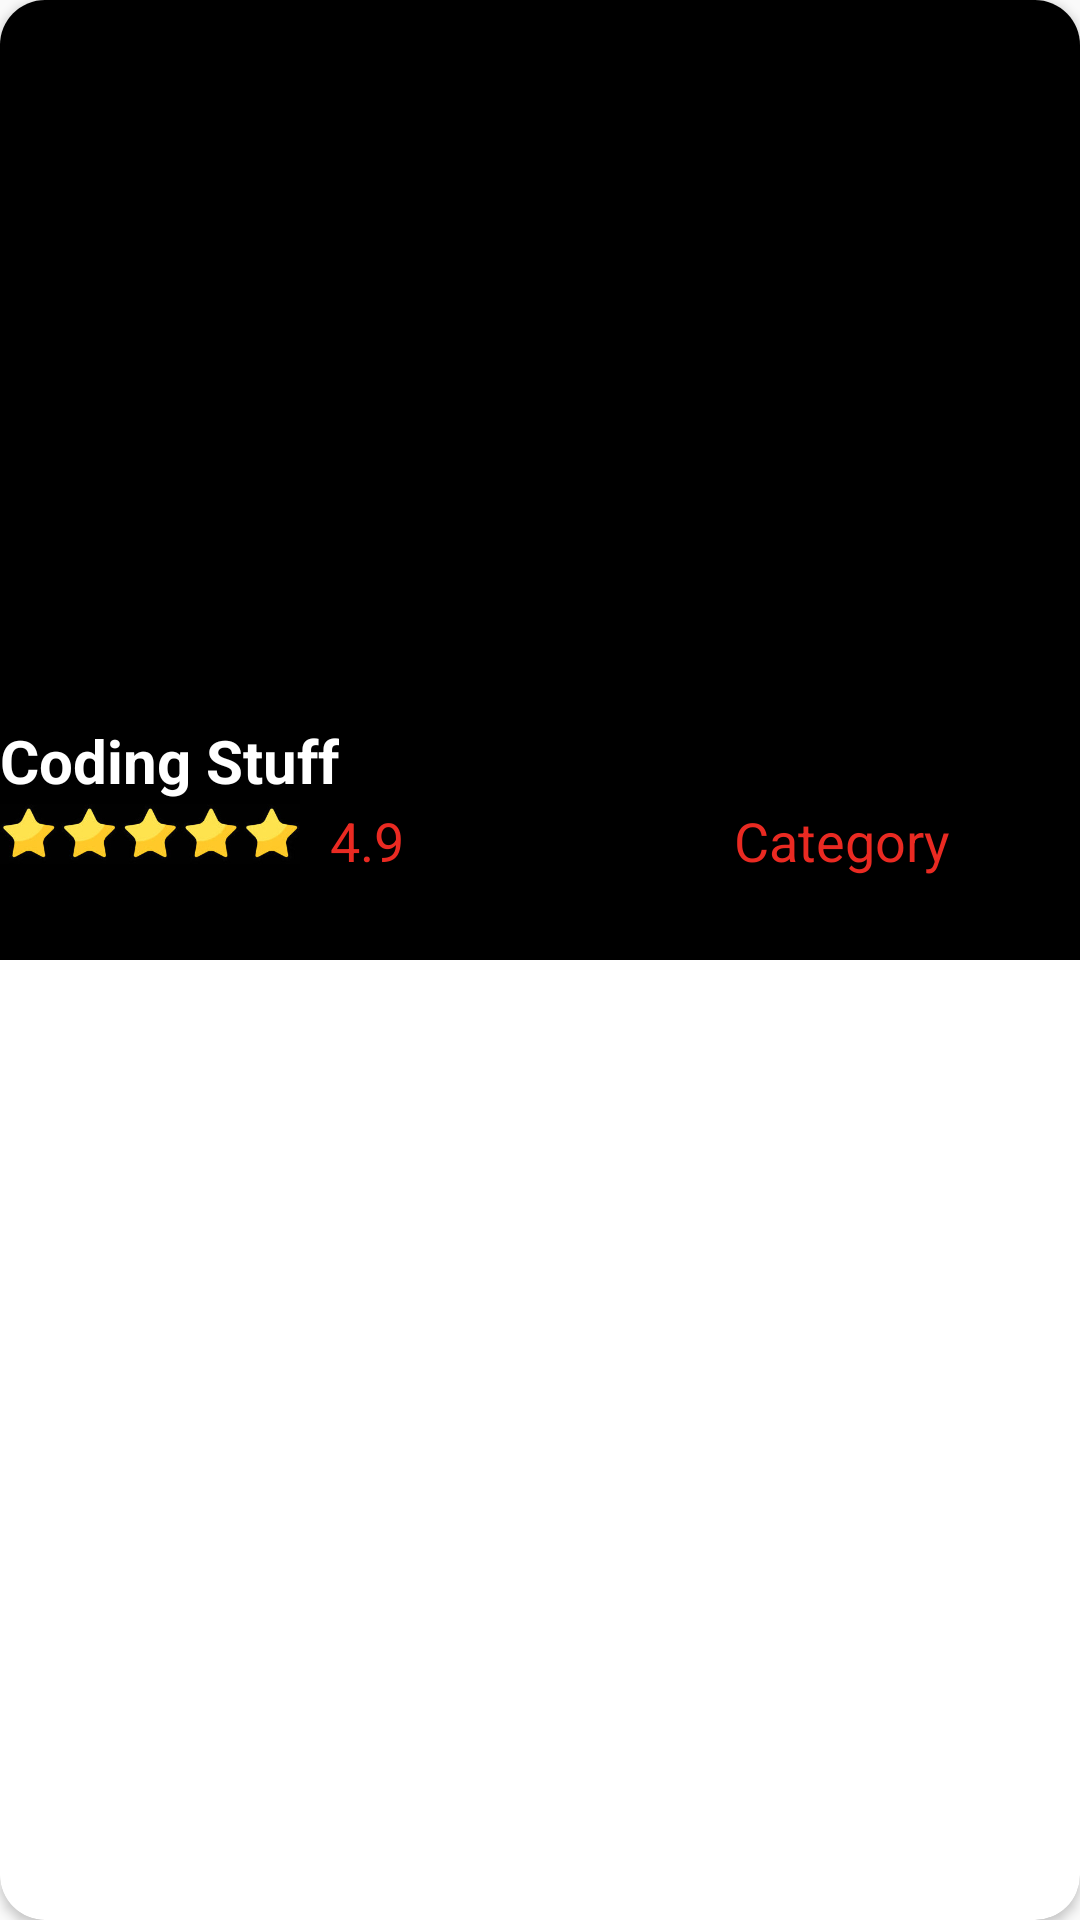

Icons on this 1080x1920 Android screen, each with its box as bbox(x1, y1, x2, y2):
stars: bbox(3, 808, 299, 859)
